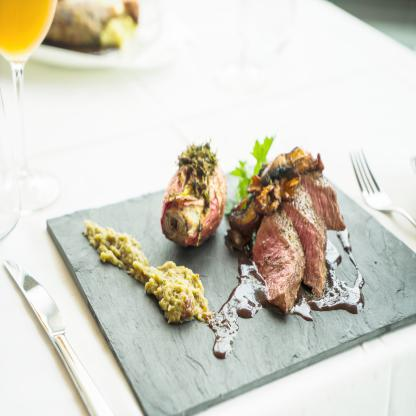Carne: (252, 206, 304, 321), (284, 185, 324, 302), (288, 159, 349, 231)
